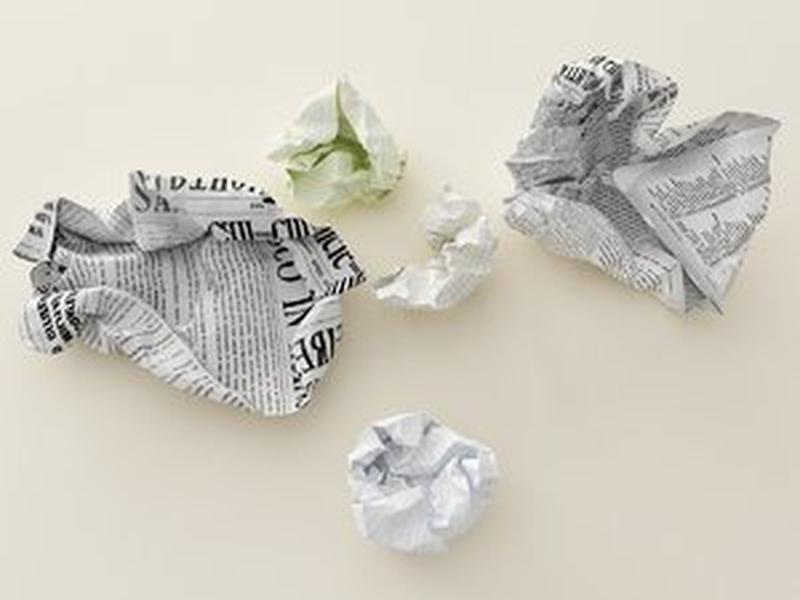paper: (8, 167, 371, 434), (497, 45, 785, 325), (332, 408, 511, 565), (265, 73, 417, 215), (367, 180, 509, 320)
